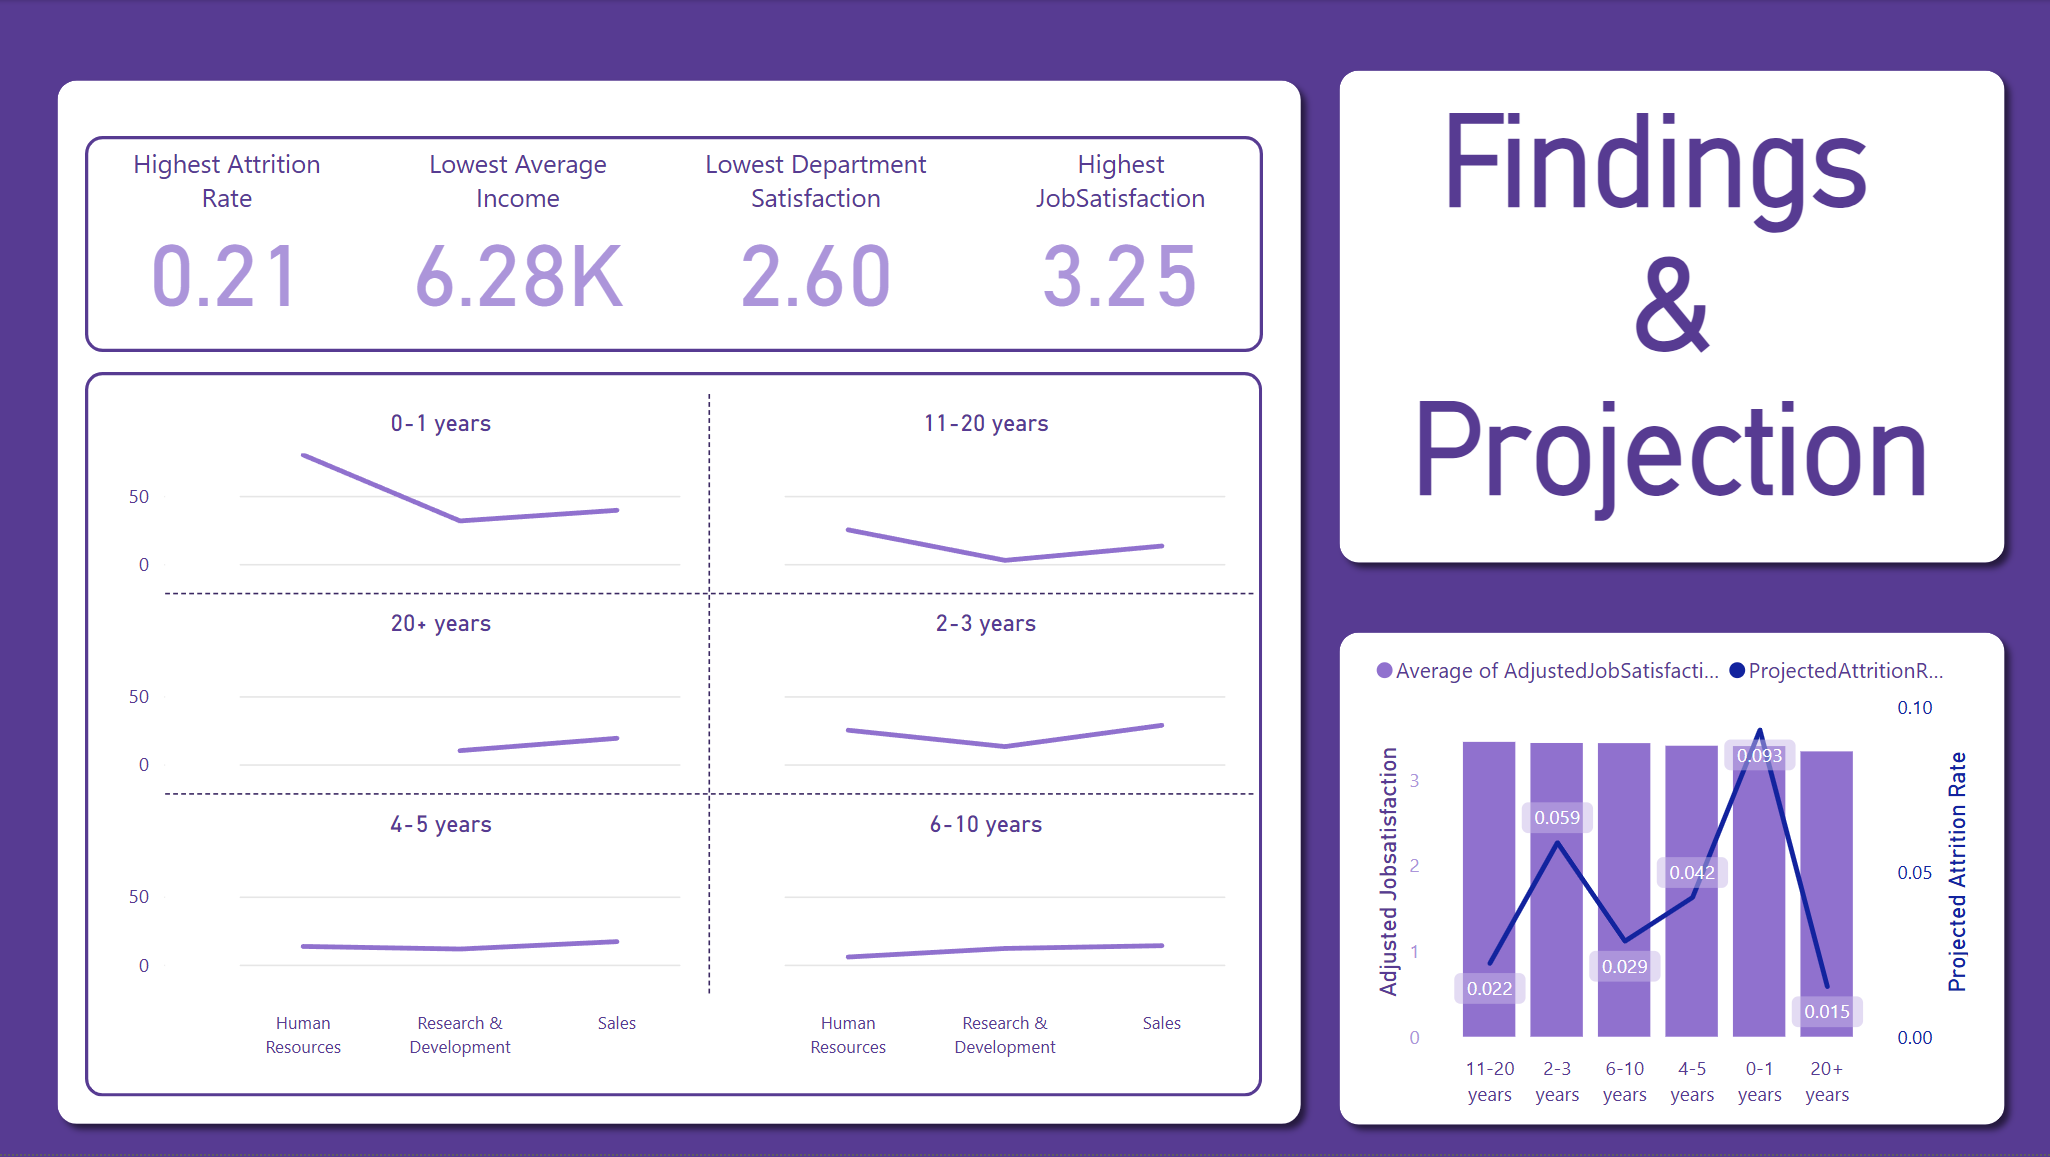

This screenshot's page, from the dashboard's own definition file:
{"tool":"powerbi","page":{"name":"Findings","canvas":[1280,720],"ordinal":2},"visuals":[{"type":"shape","box":[827.3,385.6,433,325.1],"z":0},{"type":"shape","box":[27.5,41.2,794.2,669.5],"z":1000},{"type":"cardVisual","fields":{"Data":["HR_Analytics.MinDeptSatisfaction"]},"box":[421.1,61.1,177.2,171],"z":2000},{"type":"cardVisual","fields":{"Data":["HR_Analytics.HighestAvgJobSat_18_25_HR"]},"box":[611.4,61.1,177.2,171],"z":3000},{"type":"cardVisual","fields":{"Data":["HR_Analytics.HighestAttritionRate_ByDept"]},"box":[53.7,61.1,177.2,171],"z":4000},{"type":"cardVisual","fields":{"Data":["HR_Analytics.LowestAvgIncome_ByDept"]},"box":[235.2,61.1,177.2,171],"z":5000},{"type":"lineChart","fields":{"Rows":["HR_Analytics.YearsAtCompany_Bucket"],"Y":["HR_Analytics.Attrition Rate (%)"],"Category":["HR_Analytics.Department"]},"box":[53.7,240.8,735,428.6],"z":6000},{"type":"lineClusteredColumnComboChart","fields":{"Y":["Avg(HR_Analytics.AdjustedJobSatisfaction)"],"Category":["HR_Analytics.YearsAtCompany_Bucket"],"Y2":["HR_Analytics.ProjectedAttritionRate"]},"box":[853.5,398.1,380,300.1],"z":7000},{"type":"shape","box":[53.7,84.9,735,134.8],"z":8000},{"type":"shape","box":[53.7,232.1,735,452.3],"z":8001},{"type":"shape","box":[827.3,34.9,433,325.1],"z":8002},{"type":"textbox","box":[853.5,48.7,380,296.4],"z":8003}]}

Visuals, with their boxes in screenshot pixels (x1, y1, x2, y2), scaled from the page's 1280x720 canvas onto the 2050x1157 screenshot:
shape: {"x1": 1325, "y1": 620, "x2": 2018, "y2": 1142}
shape: {"x1": 44, "y1": 66, "x2": 1316, "y2": 1142}
cardVisual - HR_Analytics.MinDeptSatisfaction: {"x1": 674, "y1": 98, "x2": 958, "y2": 373}
cardVisual - HR_Analytics.HighestAvgJobSat_18_25_HR: {"x1": 979, "y1": 98, "x2": 1263, "y2": 373}
cardVisual - HR_Analytics.HighestAttritionRate_ByDept: {"x1": 86, "y1": 98, "x2": 370, "y2": 373}
cardVisual - HR_Analytics.LowestAvgIncome_ByDept: {"x1": 377, "y1": 98, "x2": 660, "y2": 373}
lineChart - HR_Analytics.YearsAtCompany_Bucket x HR_Analytics.Attrition Rate (%): {"x1": 86, "y1": 387, "x2": 1263, "y2": 1076}
lineClusteredColumnComboChart - Avg(HR_Analytics.AdjustedJobSatisfaction) x HR_Analytics.YearsAtCompany_Bucket: {"x1": 1367, "y1": 640, "x2": 1976, "y2": 1122}
shape: {"x1": 86, "y1": 136, "x2": 1263, "y2": 353}
shape: {"x1": 86, "y1": 373, "x2": 1263, "y2": 1100}
shape: {"x1": 1325, "y1": 56, "x2": 2018, "y2": 578}
textbox: {"x1": 1367, "y1": 78, "x2": 1976, "y2": 555}
